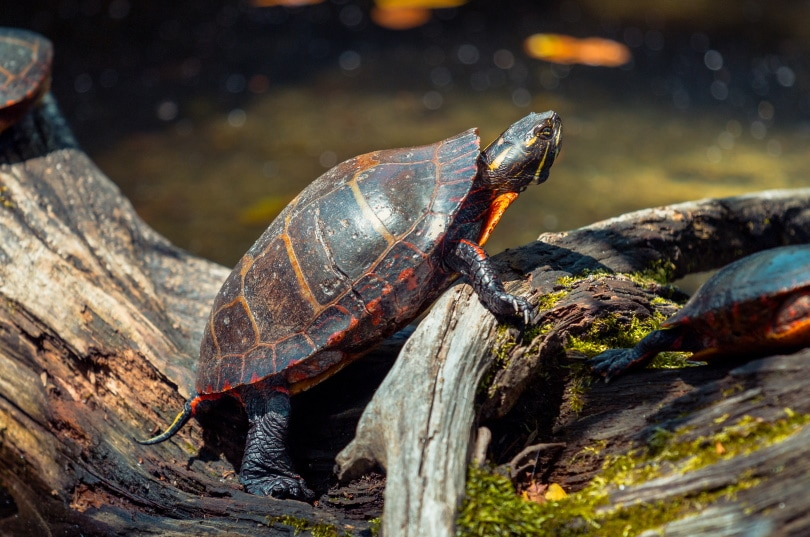eye: (534, 117, 559, 143)
mouth: (553, 120, 565, 157)
